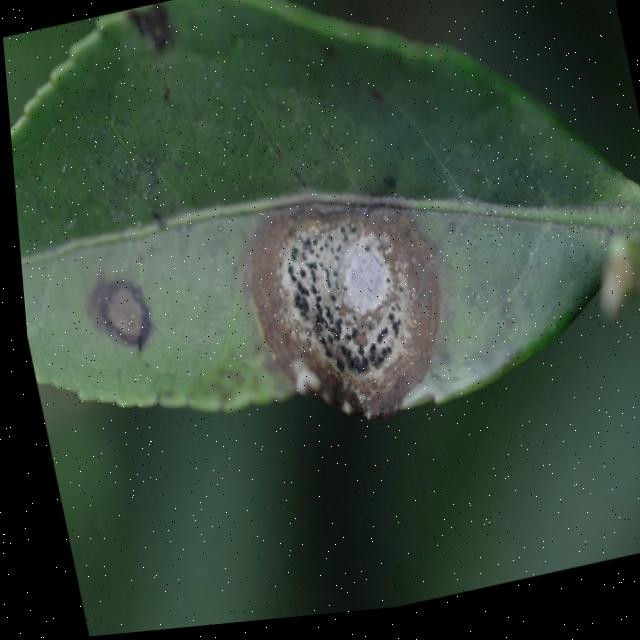Tea cloud leaf blight: (230, 180, 446, 435)
